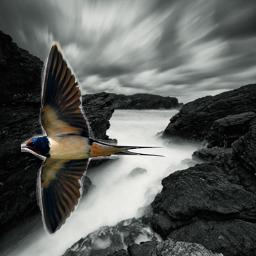Swallow: (21, 41, 168, 240)
